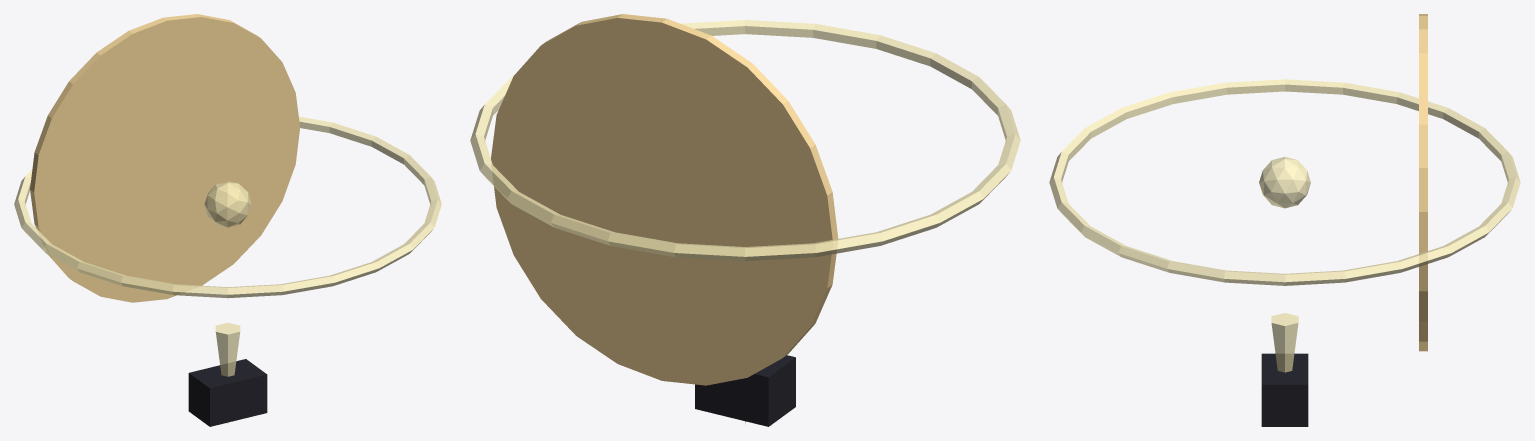
The model's file is 05_combat_start_camera_rig.glb.
3 views of the same model, side by side, from view 1: azimuth 30°, elevation 25°; view 2: azimuth 150°, elevation 25°; view 3: azimuth 270°, elevation 25° (orthographic). The views are drawn at different scales.
Parts seen in each view (by area): view 1: combat_start_trigger_disc, camera_orbit_track, camera_proxy, target_focus_point, look_vector; view 2: combat_start_trigger_disc, camera_orbit_track, camera_proxy; view 3: camera_orbit_track, camera_proxy, combat_start_trigger_disc, target_focus_point, look_vector.
Boxes of the visible parts, bbox=[...] form: combat_start_trigger_disc: bbox=[30, 14, 300, 302]; camera_orbit_track: bbox=[14, 116, 441, 298]; camera_proxy: bbox=[188, 359, 267, 426]; target_focus_point: bbox=[204, 181, 251, 227]; look_vector: bbox=[215, 322, 240, 423]; combat_start_trigger_disc: bbox=[491, 14, 838, 385]; camera_orbit_track: bbox=[470, 20, 1020, 261]; camera_proxy: bbox=[695, 355, 795, 426]; camera_orbit_track: bbox=[1049, 79, 1520, 285]; camera_proxy: bbox=[1261, 353, 1308, 426]; combat_start_trigger_disc: bbox=[1419, 14, 1427, 351]; target_focus_point: bbox=[1259, 157, 1310, 208]; look_vector: bbox=[1271, 313, 1298, 372].
Bounding box in the file's own units: 1.81 × 1.68 × 1.81.
